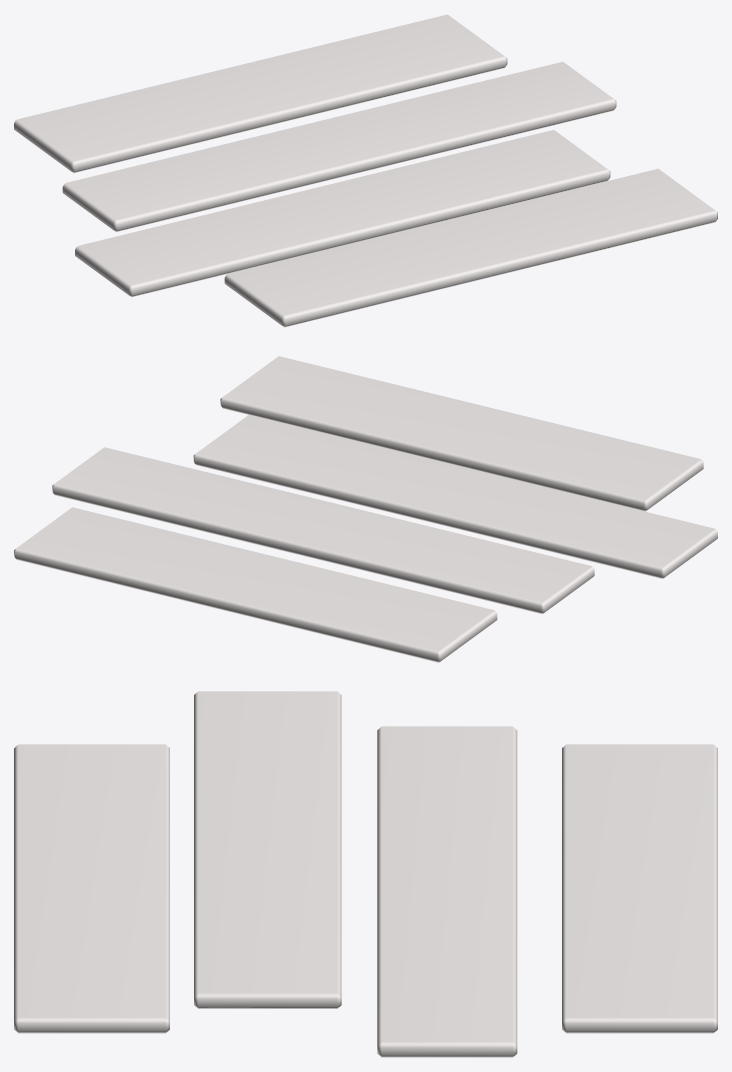
File: Farm_9_Path_1.glb
3 views of the same model, one above another, from view 1: azimuth 30°, elevation 25°; view 2: azimuth 150°, elevation 25°; view 3: azimuth 270°, elevation 25° (orthographic). The views are drawn at different scales.
Visible parts, largest first — view 1: Farm_9_Path_1; view 2: Farm_9_Path_1; view 3: Farm_9_Path_1.
Boxes of the visible parts, left/top/right/bottom form: Farm_9_Path_1: left=14, top=14, right=717, bottom=327; Farm_9_Path_1: left=14, top=356, right=717, bottom=662; Farm_9_Path_1: left=14, top=691, right=717, bottom=1057.
Bounding box in the file's own units: 3.13 × 0.0661 × 2.63.
1 material, 1 textured.
